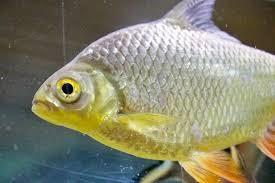Silver Barb: (32, 1, 275, 183)
